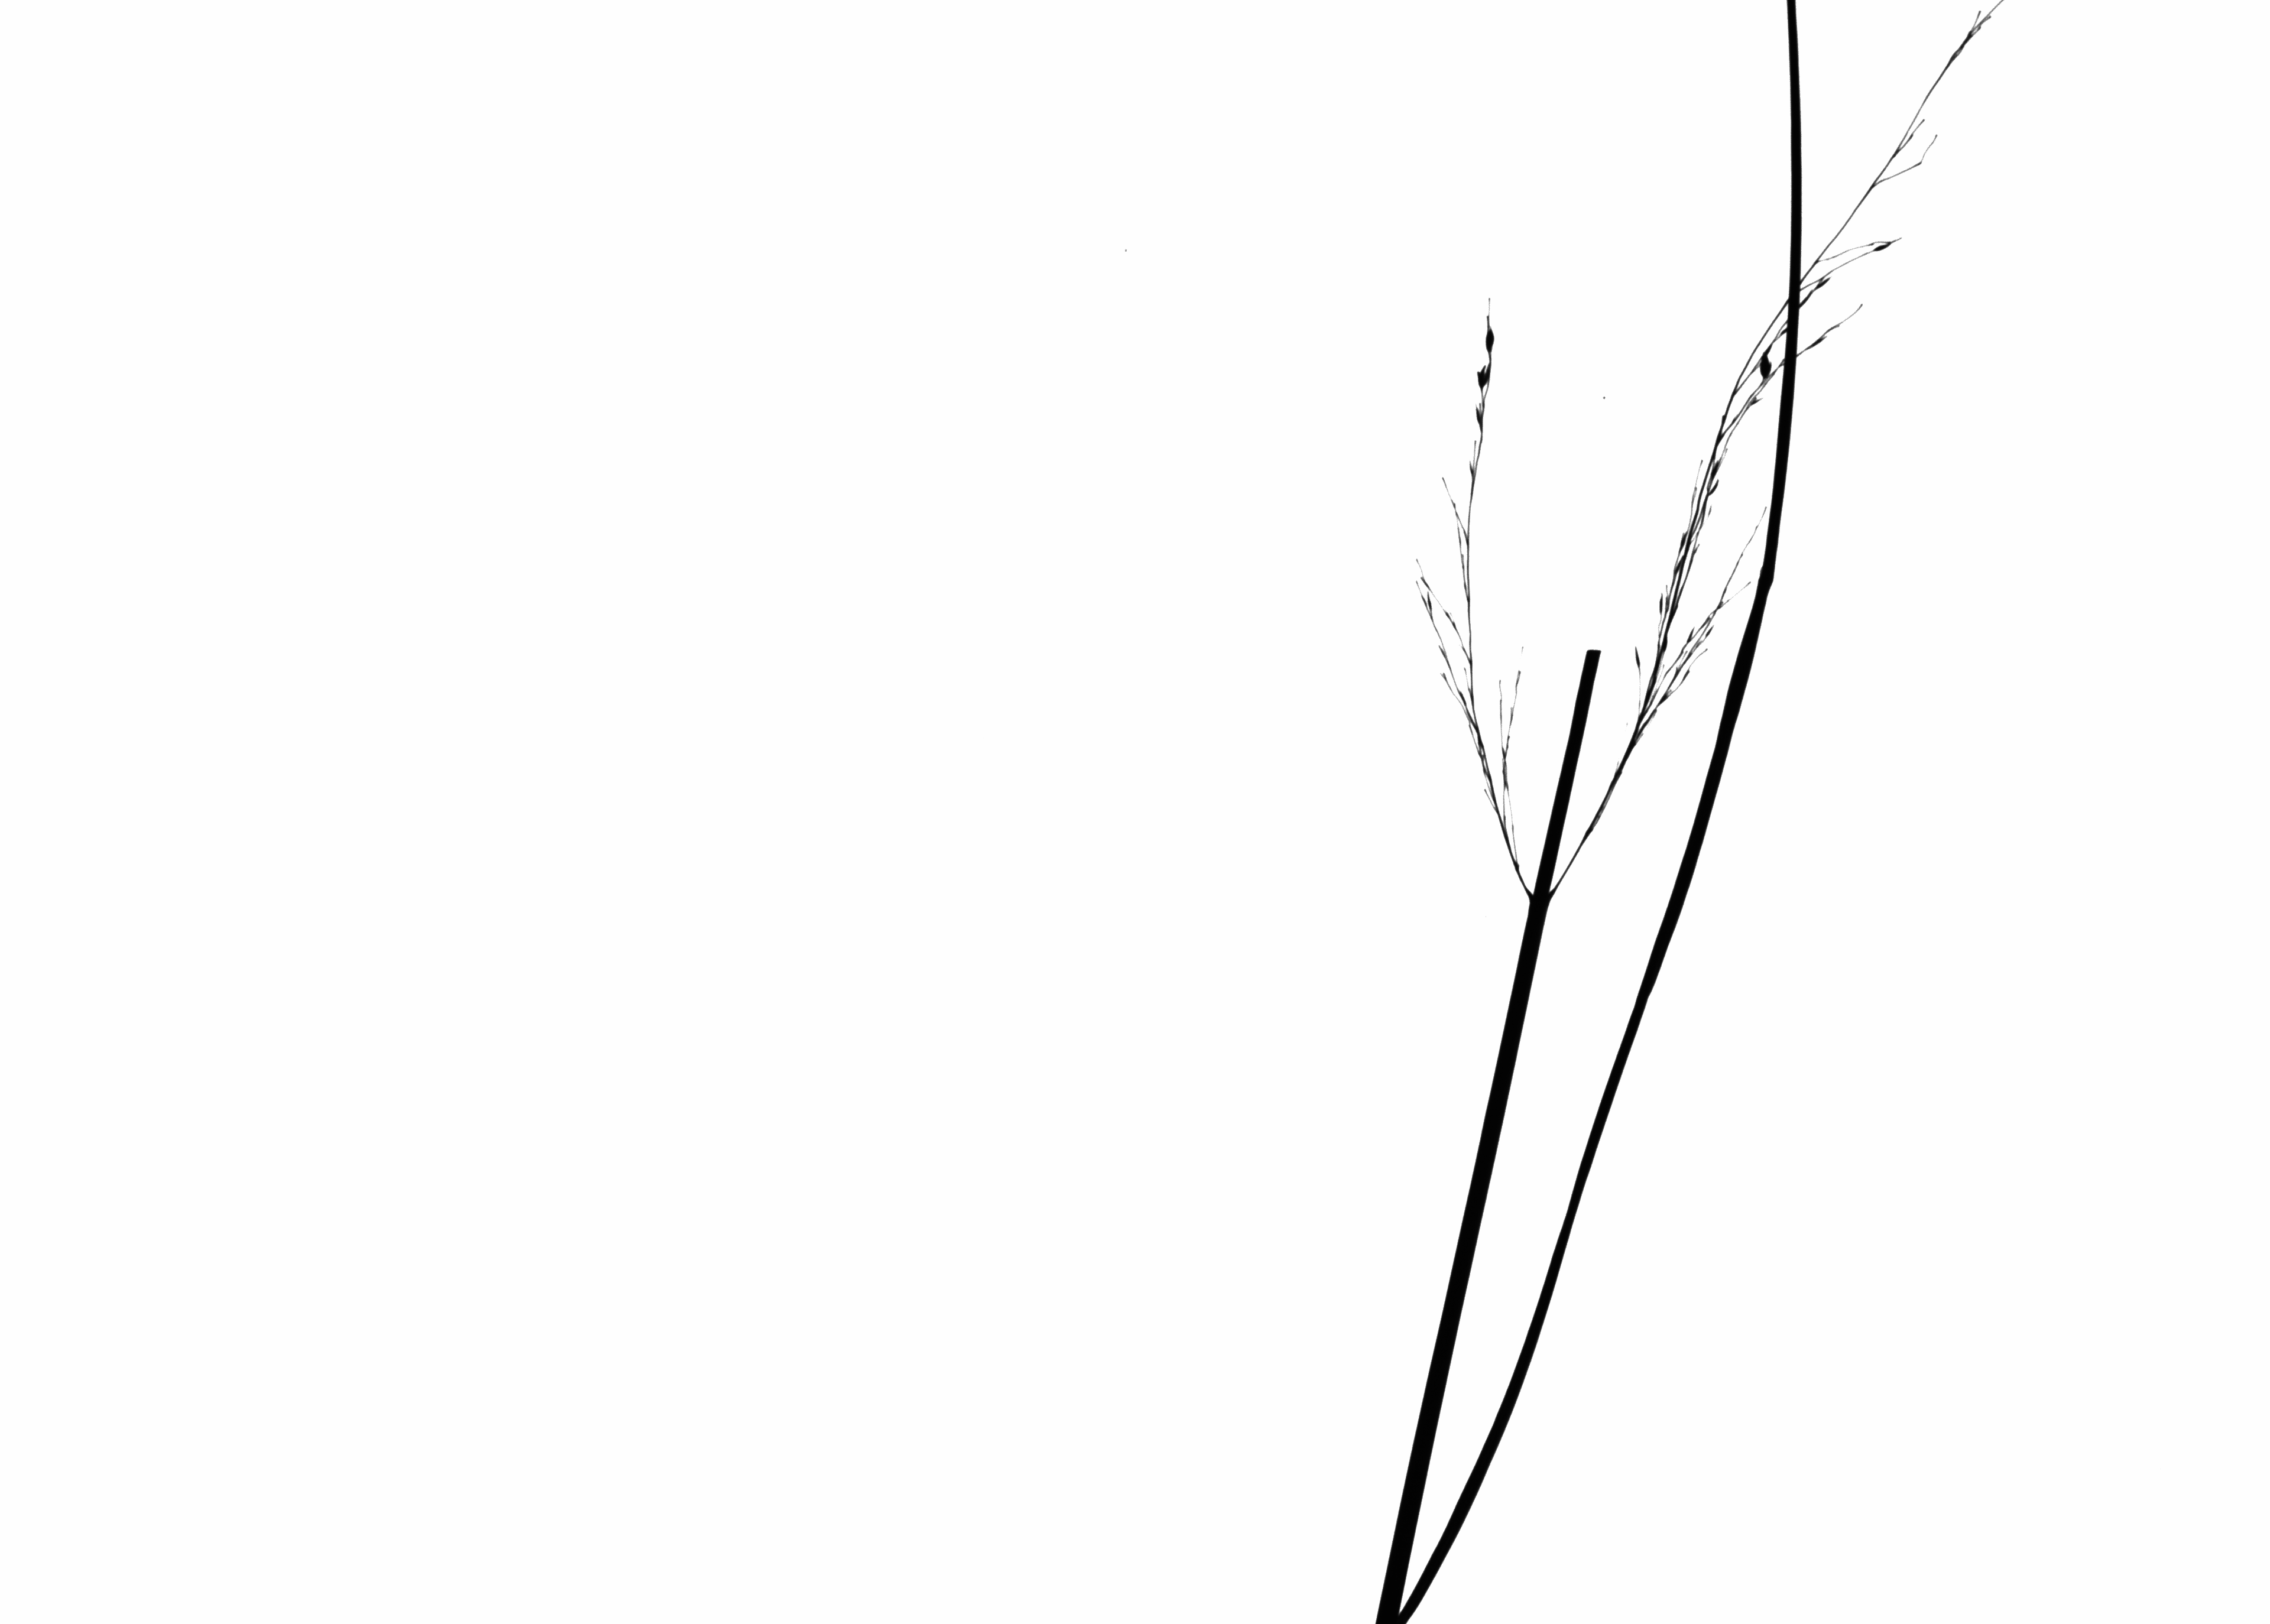seed: (1748, 346, 1779, 388), (1477, 316, 1507, 355), (1472, 362, 1496, 390)
